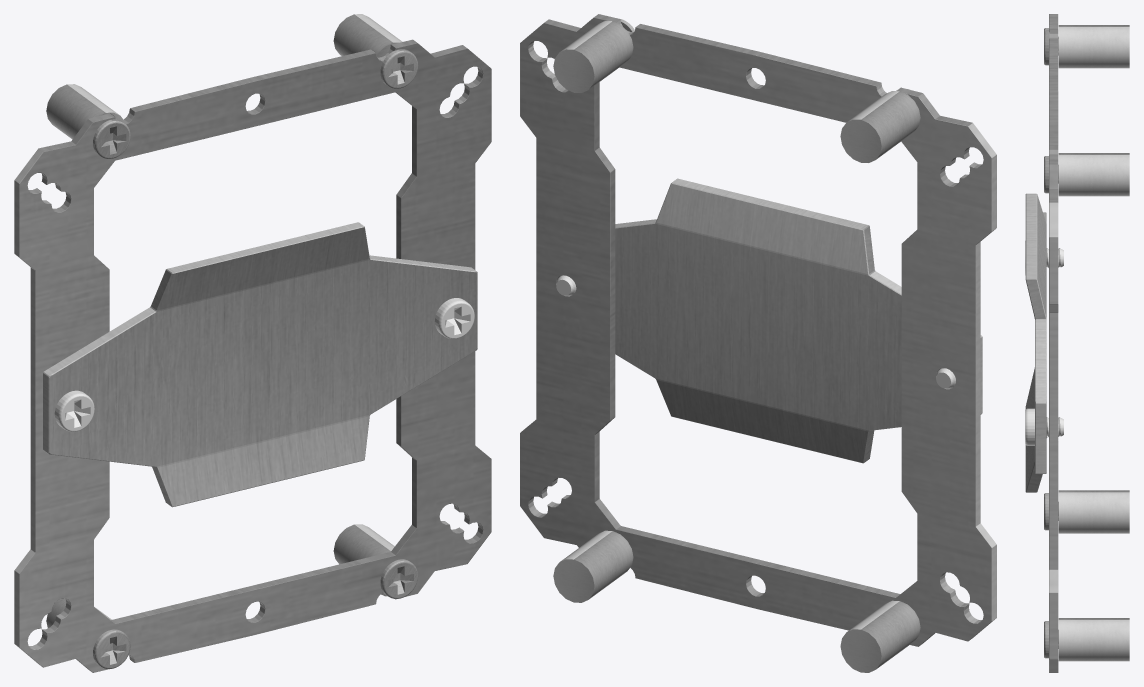
File: fancoolerpart2.glb
3 renders of one model, left to right at view 1: azimuth 30°, elevation 25°; view 2: azimuth 150°, elevation 25°; view 3: azimuth 270°, elevation 25°, orthographic. The views are drawn at different scales.
Visible parts, largest first — view 1: cpu_lüfter_montage_klammer; view 2: cpu_lüfter_montage_klammer; view 3: cpu_lüfter_montage_klammer.
Part boxes in pixels (box(x1,y1,x2,y2)): cpu_lüfter_montage_klammer: box(14, 14, 491, 672); cpu_lüfter_montage_klammer: box(520, 14, 996, 672); cpu_lüfter_montage_klammer: box(1025, 14, 1129, 672).
Size of the model in its own units: 0.0907 by 0.1016 by 0.0191.
2 materials, 1 textured.
